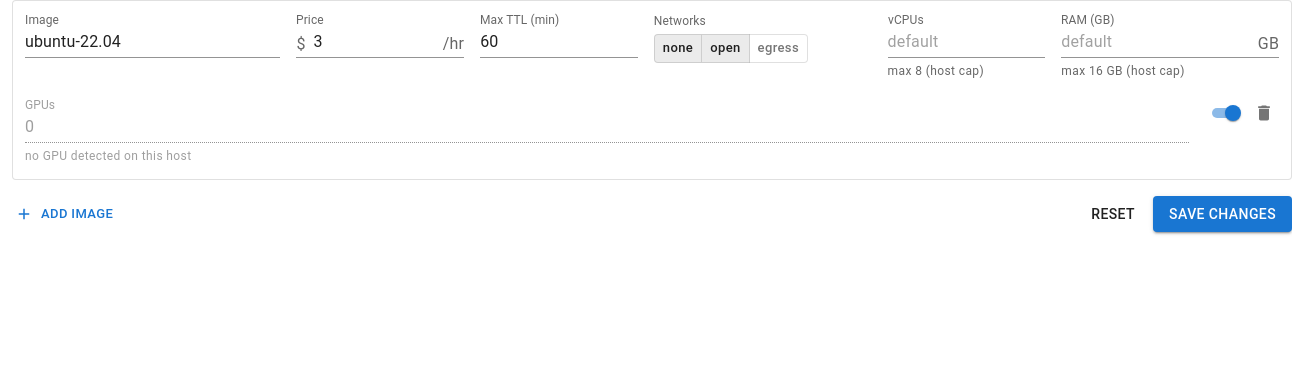
Test case: HostImagesEditor › maps a validation_error's field + max to the offending row on save
The width and height of the screenshot is (1304, 372).
Expected: the field showing "ubuntu-22.04" is shown, x1=25 y1=29 x2=280 y2=58
Click the button "Save changes".
click(1223, 214)  # box x1=1153 y1=196 x2=1292 y2=232
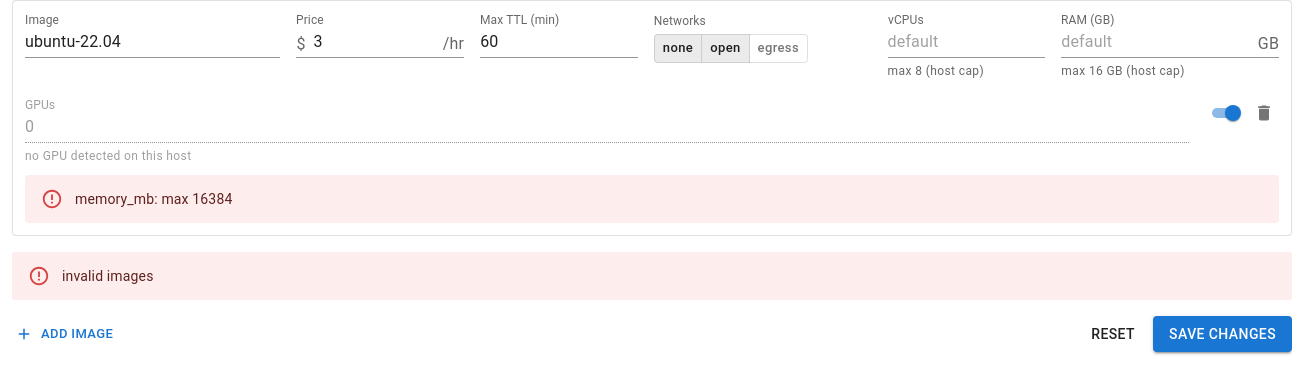
Now the text "memory_mb: max 16384" is shown, box x1=75 y1=191 x2=232 y2=207
